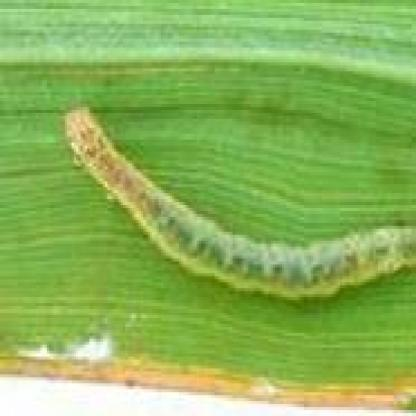leaf-folder: (58, 86, 416, 324)
